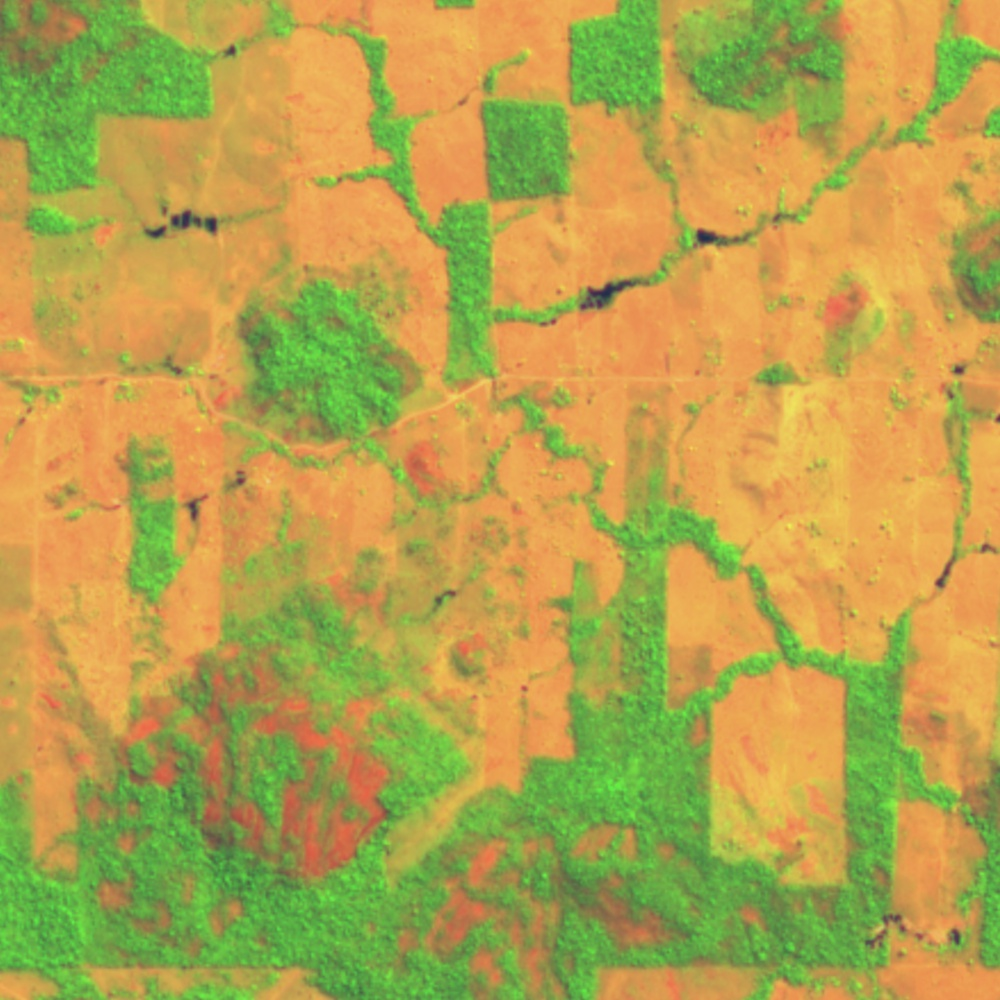illegal: (537, 224, 759, 328), (865, 909, 969, 961), (178, 463, 255, 527), (931, 537, 1000, 591), (142, 203, 219, 244)
